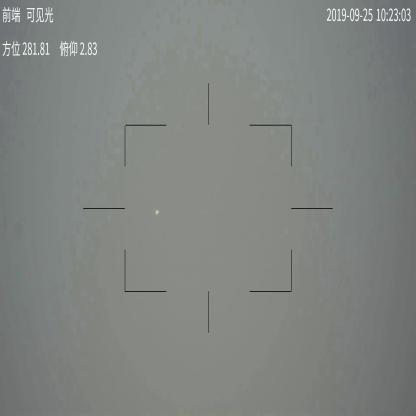uav: (155, 208, 160, 216)
